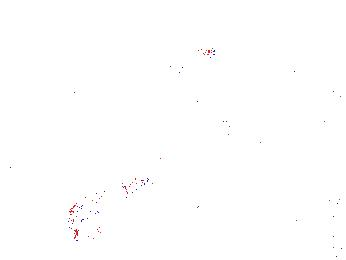glassfish: (64, 175, 151, 229), (216, 119, 299, 159)
red belly glassfish: (120, 19, 172, 37), (184, 37, 217, 62), (151, 62, 186, 76)
